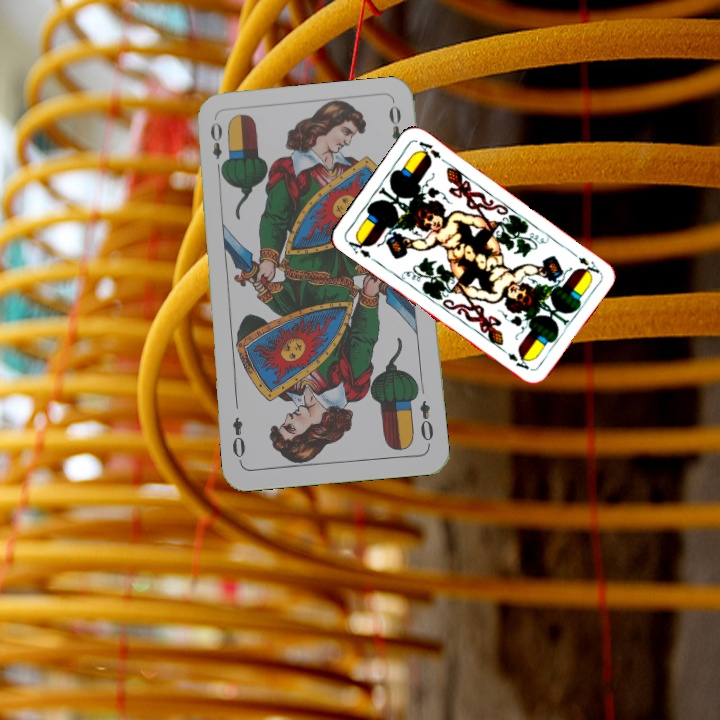EA: (342, 233, 378, 265), (574, 253, 602, 278)
EO: (206, 118, 228, 176), (416, 396, 436, 449)
